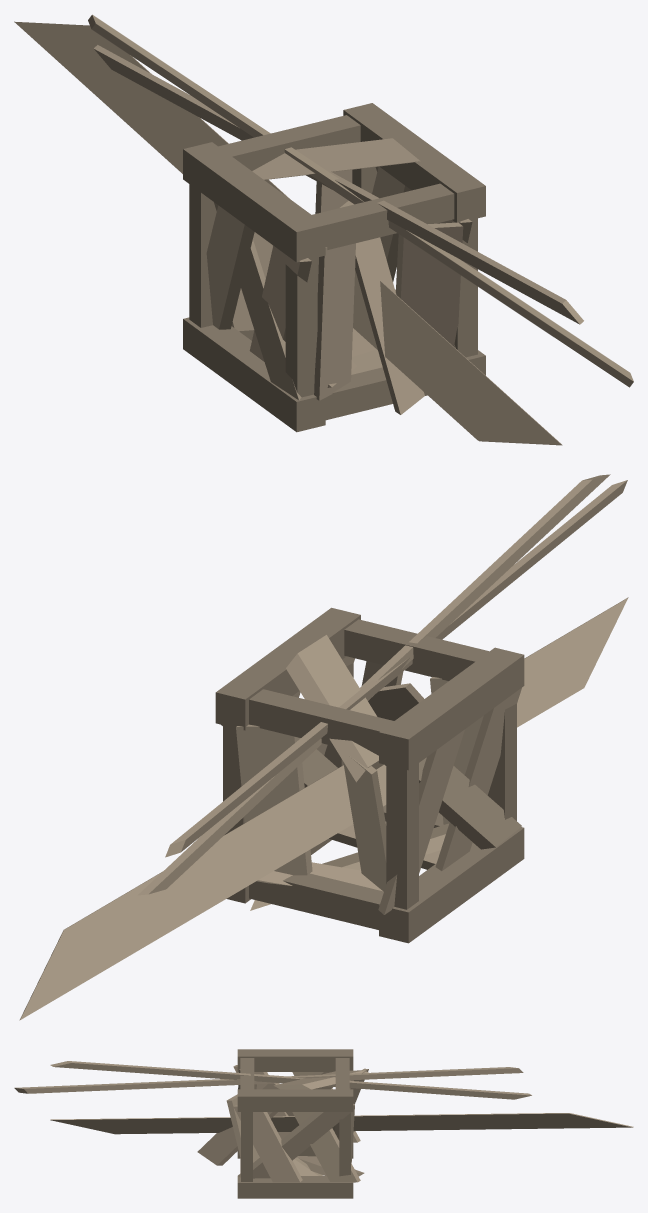
Rendered from box_helicopter.fbx.
3 views of the same model, one above another, from view 1: azimuth 30°, elevation 25°; view 2: azimuth 150°, elevation 25°; view 3: azimuth 270°, elevation 25° (orthographic). The views are drawn at different scales.
Parts seen in each view (by area): view 1: box_wooden_2; view 2: box_wooden_2; view 3: box_wooden_2.
Part boxes in pixels (x1,y1,x2,y2): box_wooden_2: [14, 14, 633, 445]; box_wooden_2: [19, 474, 628, 1020]; box_wooden_2: [14, 1049, 633, 1198].
Size of the model in its own units: 117 by 140 by 653.
